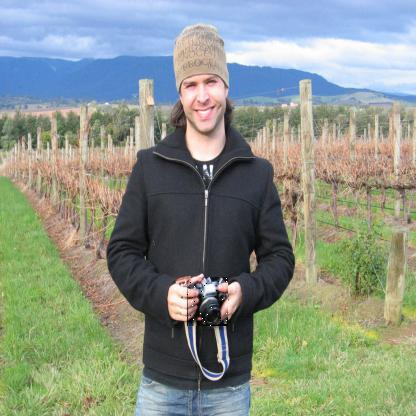Camera: (188, 278, 230, 328)
